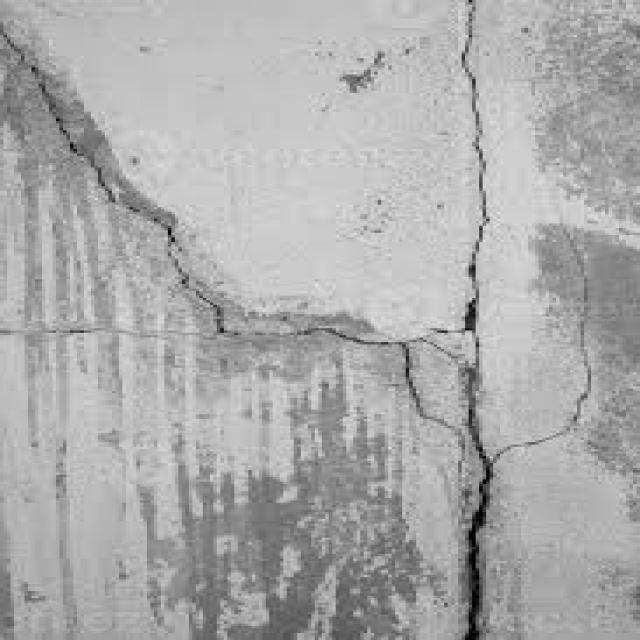crack: (2, 1, 492, 639)
